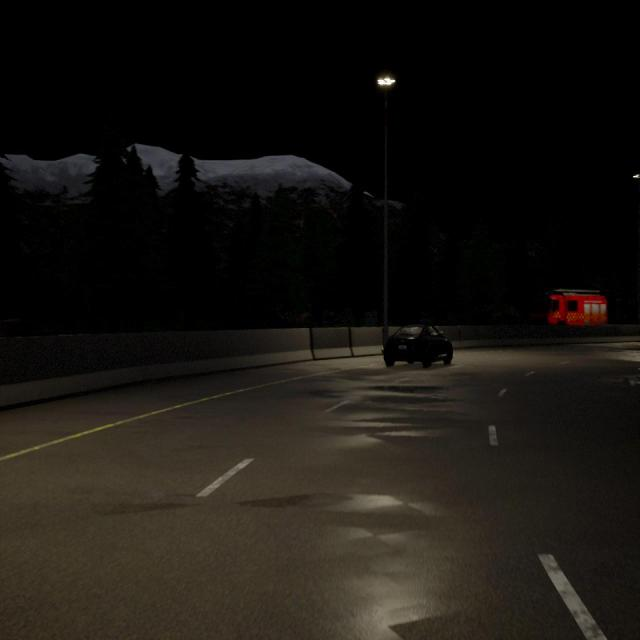Vehicle: (383, 322, 453, 368), (531, 289, 607, 326)
